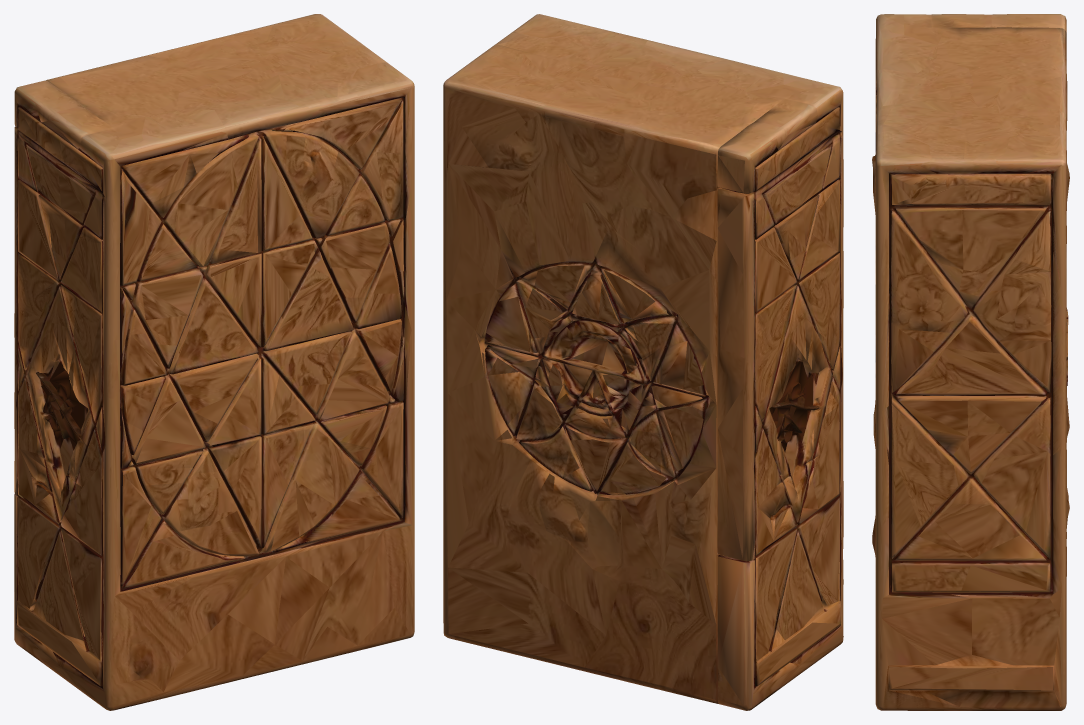
Rendered from wood.glb.
3 renders of one model, left to right at view 1: azimuth 30°, elevation 25°; view 2: azimuth 150°, elevation 25°; view 3: azimuth 270°, elevation 25°, orthographic.
Parts seen in each view (by area): view 1: tripo_node_7702ca2a-1380-4270-b519-06901e4be8dc; view 2: tripo_node_7702ca2a-1380-4270-b519-06901e4be8dc; view 3: tripo_node_7702ca2a-1380-4270-b519-06901e4be8dc.
Part boxes in pixels (x1,y1,x2,y2): tripo_node_7702ca2a-1380-4270-b519-06901e4be8dc: (14, 14, 414, 710); tripo_node_7702ca2a-1380-4270-b519-06901e4be8dc: (443, 14, 843, 710); tripo_node_7702ca2a-1380-4270-b519-06901e4be8dc: (872, 14, 1069, 710).
Size of the model in its own units: 0.5727 by 0.9796 by 0.3179.
1 material, 1 textured.
